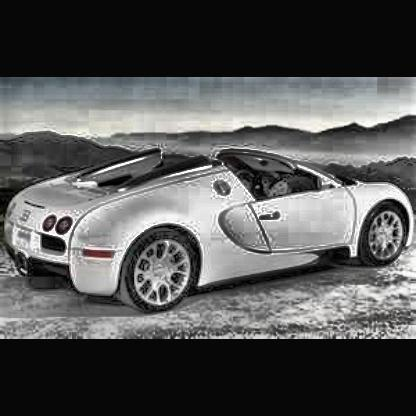Bugatti Veyron 16-4 Convertible 2009: (10, 146, 416, 308)
